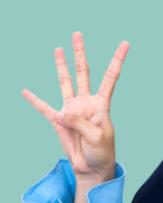right: (18, 29, 131, 171)
